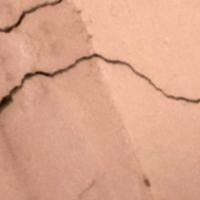crack: (0, 0, 199, 113)
